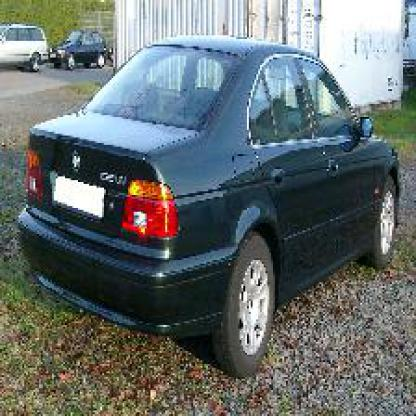not_emergency: (13, 44, 396, 372)
